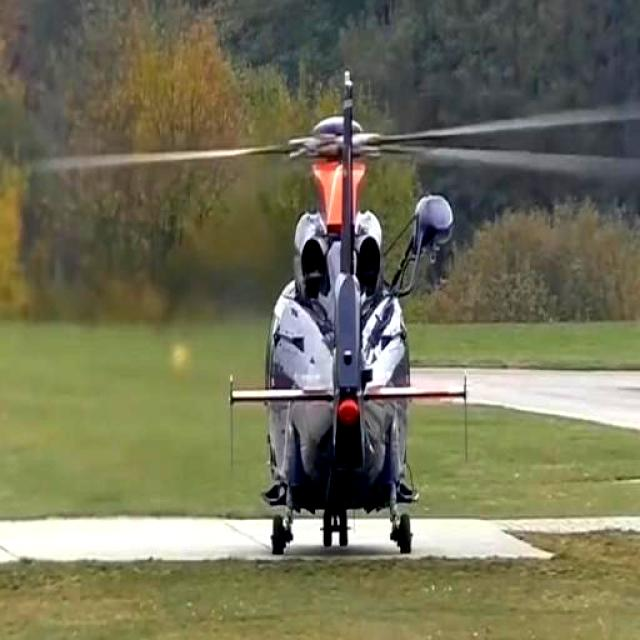drone: (204, 62, 455, 580)
